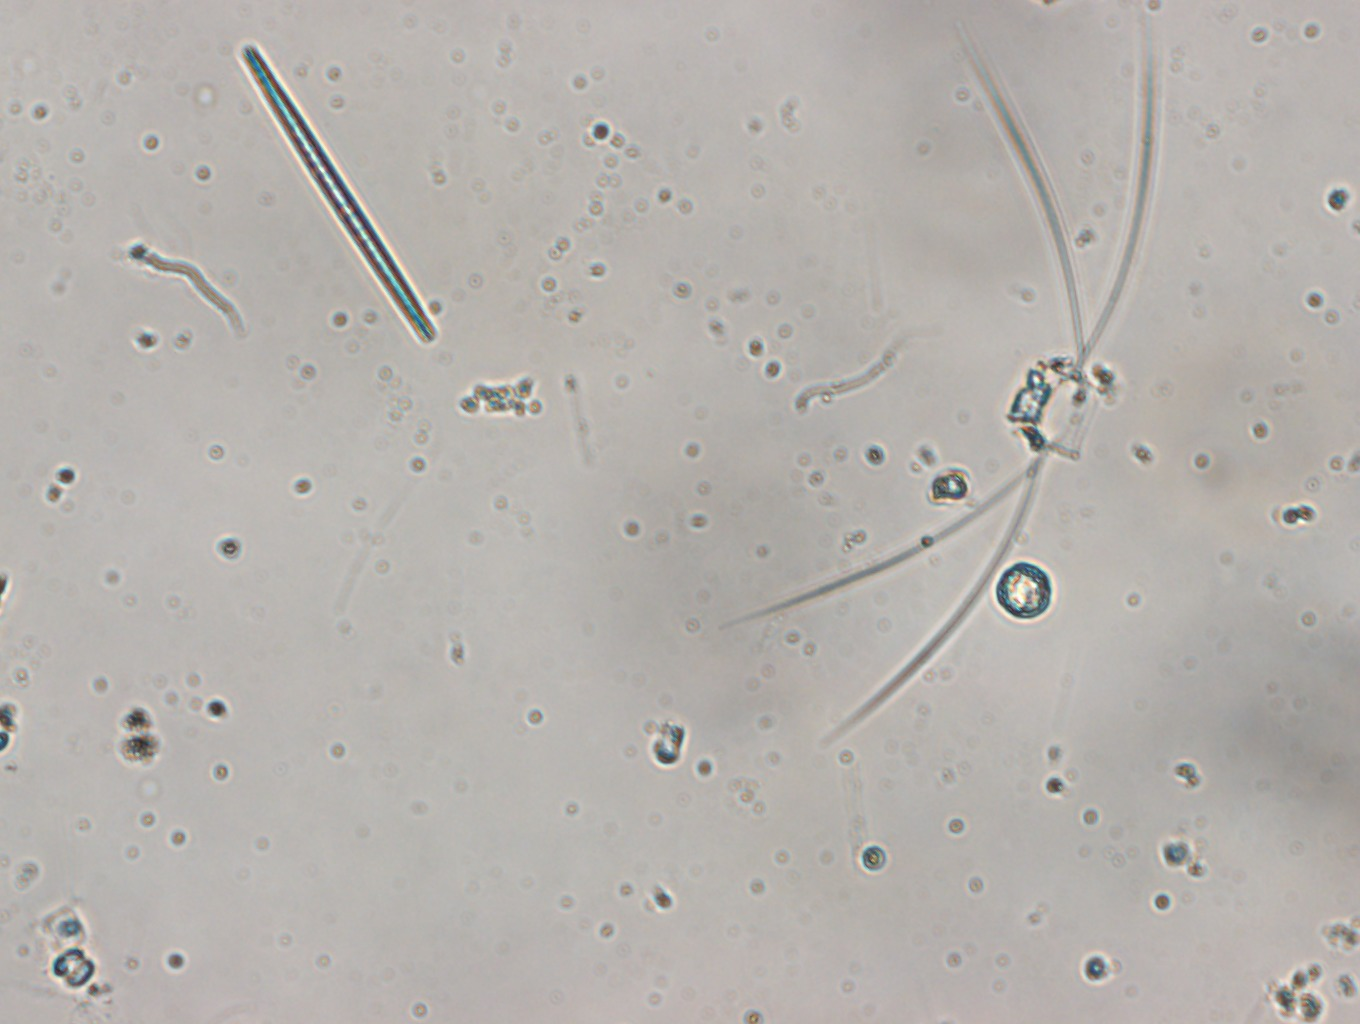chaetoceros: (750, 26, 1180, 746)
